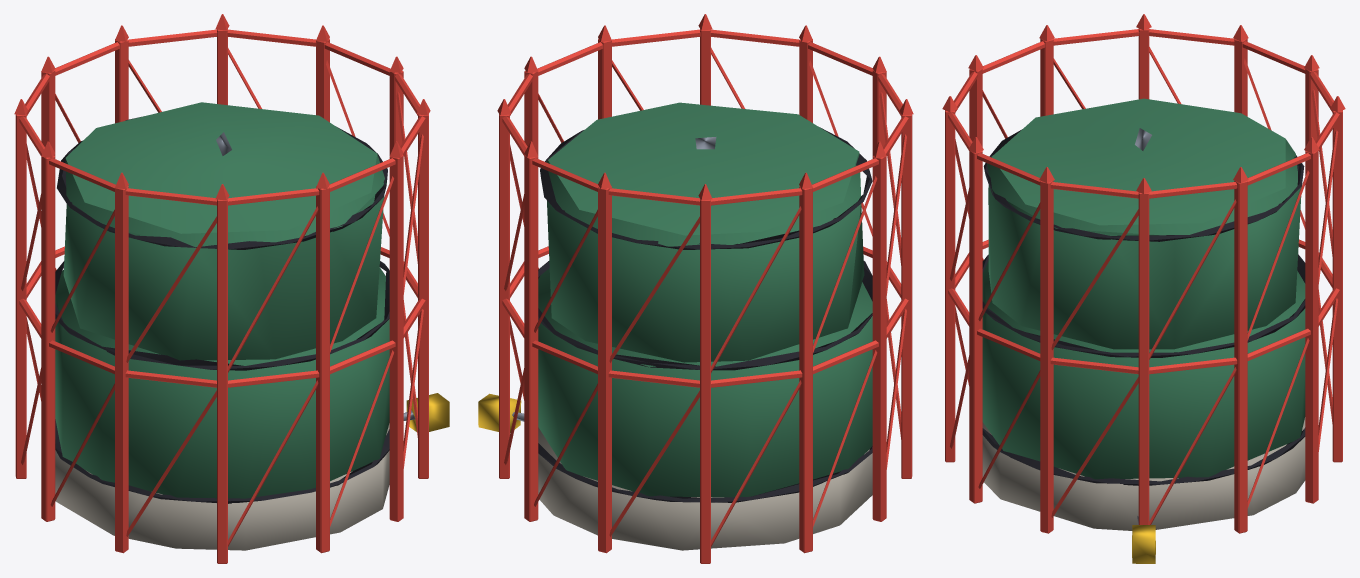
Rendered from gasholder.glb.
The picture shows the model from 3 angles, left to right: view 1: azimuth 30°, elevation 25°; view 2: azimuth 150°, elevation 25°; view 3: azimuth 270°, elevation 25°; orthographic projection. The views are drawn at different scales.
Parts seen in each view (by area): view 1: gasholder; view 2: gasholder; view 3: gasholder.
Part boxes in pixels (<box>): gasholder: <box>14,14,449,563</box>; gasholder: <box>478,14,913,563</box>; gasholder: <box>942,14,1345,563</box>.
Size of the model in its own units: 25.45 by 22.8 by 22.9.
1 material, 1 textured.
